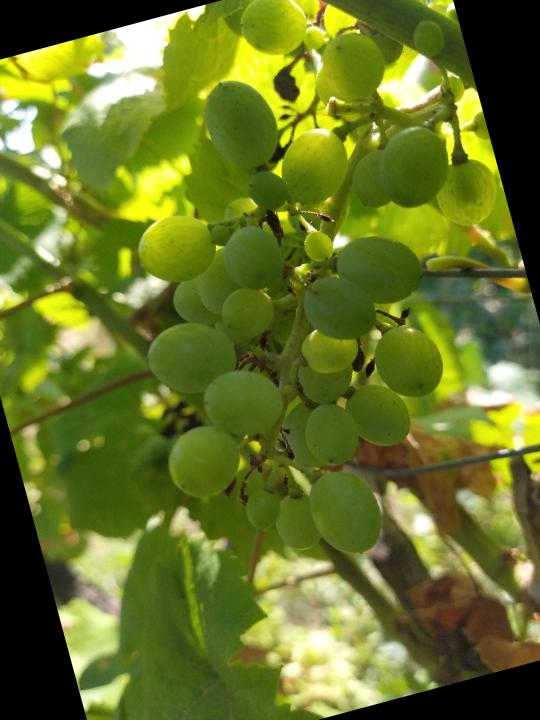grape: (52, 0, 540, 600)
